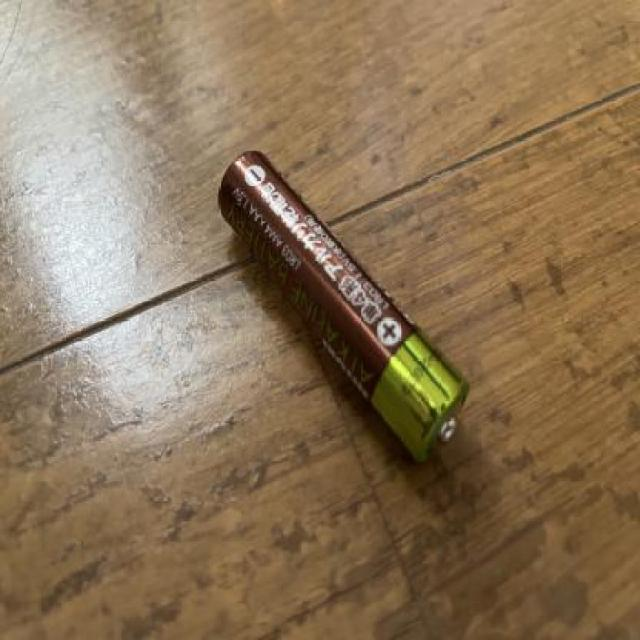hazardous waste: (215, 146, 476, 471)
